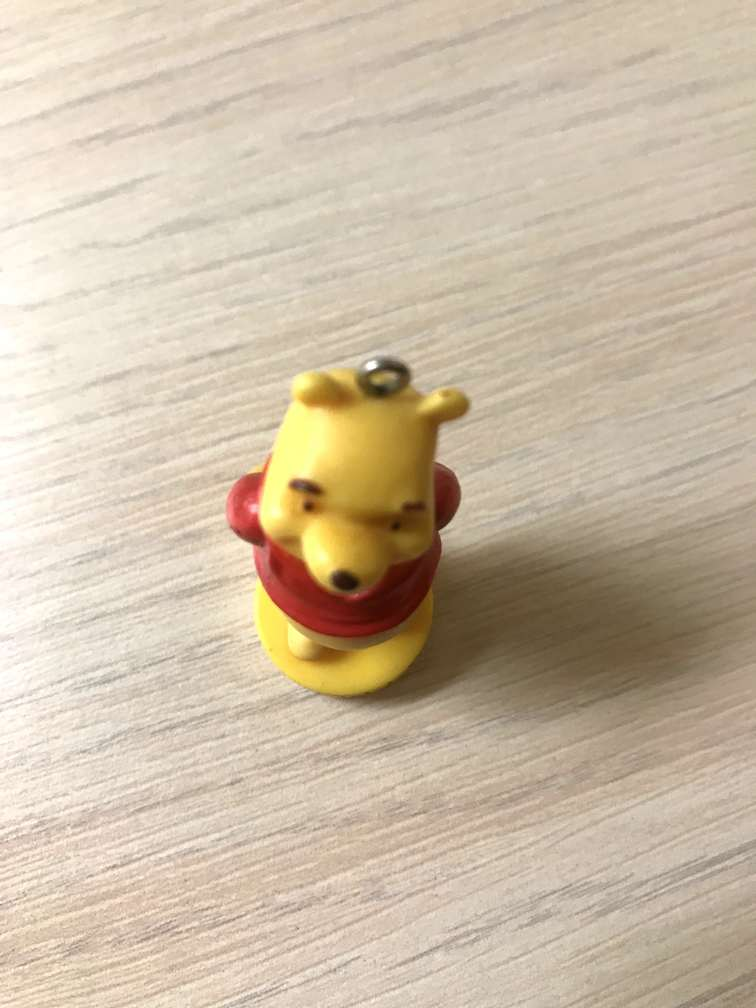Winnie: (262, 351, 469, 568)
